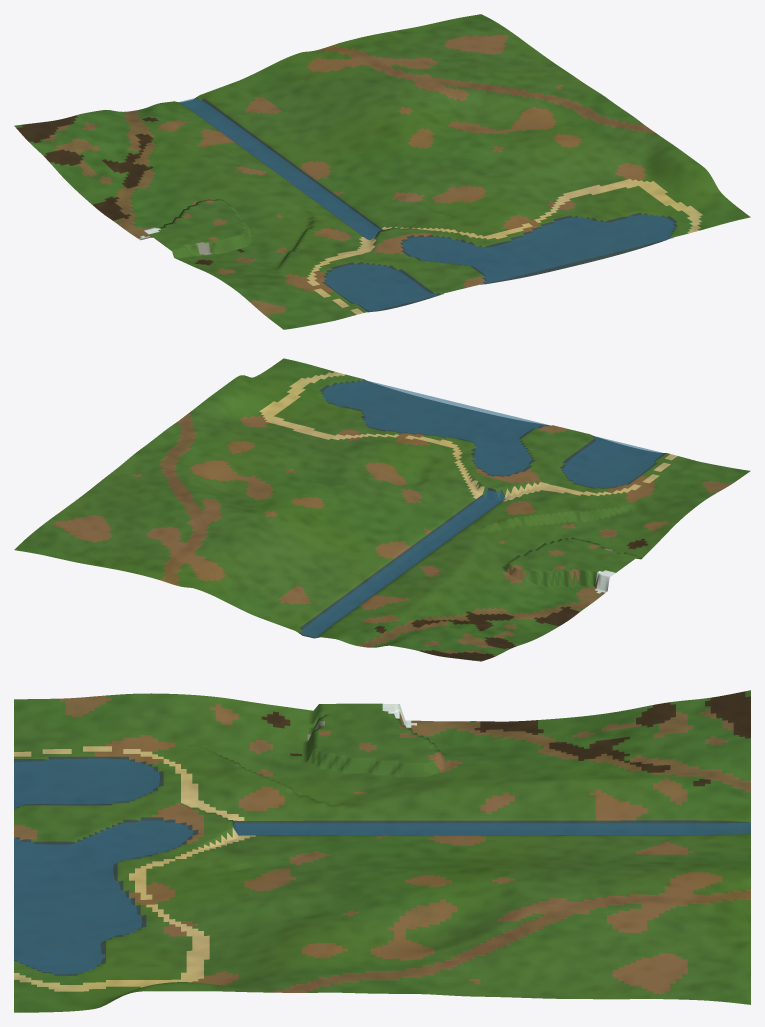
File: chunk_2_6.glb
3 renders of one model, top to bottom at view 1: azimuth 30°, elevation 25°; view 2: azimuth 150°, elevation 25°; view 3: azimuth 270°, elevation 25°, orthographic. The views are drawn at different scales.
Parts seen in each view (by area): view 1: Surface_Grass, Surface_Water, Surface_Dirt, Water, Surface_Sand, Surface_Mud; view 2: Surface_Grass, Surface_Water, Surface_Dirt, Water, Surface_Sand, Surface_Mud; view 3: Surface_Grass, Surface_Water, Surface_Dirt, Water, Surface_Sand, Surface_Mud.
Boxes of the visible parts, x1,y1,x2,y2 form: Surface_Grass: [14, 14, 750, 329]; Surface_Water: [179, 97, 677, 311]; Surface_Dirt: [44, 34, 655, 316]; Water: [179, 98, 674, 312]; Surface_Sand: [306, 179, 702, 314]; Surface_Mud: [16, 115, 243, 265]; Surface_Grass: [14, 358, 750, 661]; Surface_Water: [299, 379, 666, 638]; Surface_Dirt: [53, 413, 733, 653]; Water: [300, 380, 662, 637]; Surface_Sand: [259, 371, 677, 501]; Surface_Mud: [374, 538, 648, 660]; Surface_Grass: [14, 690, 750, 1012]; Surface_Water: [14, 756, 750, 975]; Surface_Dirt: [14, 695, 750, 993]; Water: [14, 758, 750, 974]; Surface_Sand: [14, 746, 255, 991]; Surface_Mud: [261, 691, 750, 786].
Size of the model in its own units: 256 by 17.45 by 256.
